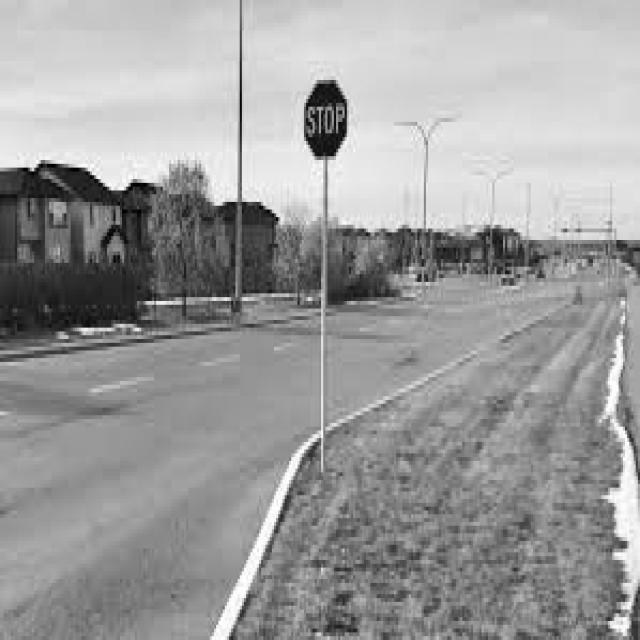stop sign: (302, 79, 350, 164)
